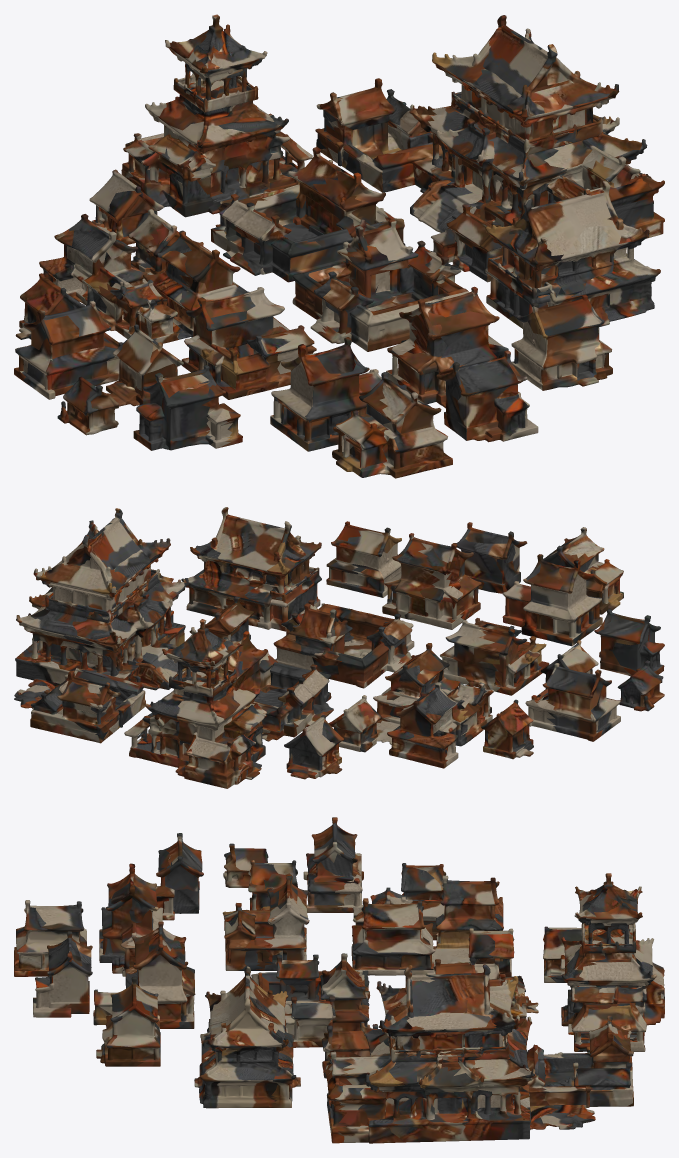
Rendered from Medieval Town (East Asian).fbx.
The picture shows the model from 3 angles, top to bottom: view 1: azimuth 30°, elevation 25°; view 2: azimuth 150°, elevation 25°; view 3: azimuth 270°, elevation 25°; orthographic projection. The views are drawn at different scales.
Parts seen in each view (by area): view 1: tripo_node_83dadc7b; view 2: tripo_node_83dadc7b; view 3: tripo_node_83dadc7b.
Boxes of the visible parts, box(x1,y1,x2,y2) form: tripo_node_83dadc7b: box(14, 14, 664, 478); tripo_node_83dadc7b: box(14, 507, 664, 788); tripo_node_83dadc7b: box(14, 817, 664, 1143).
Bounding box in the file's own units: 0.9984 × 0.255 × 1.
